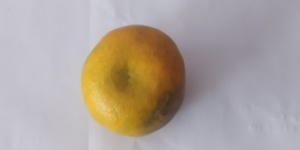BAD: (81, 23, 184, 136)
